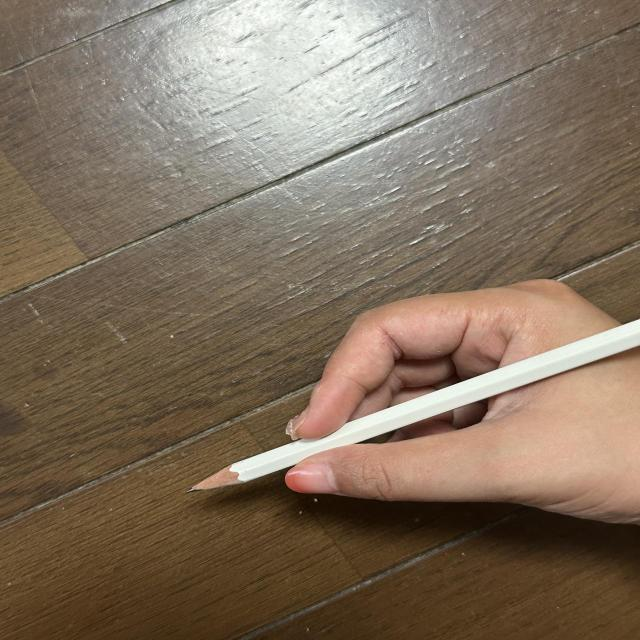pencil: (185, 317, 640, 488)
